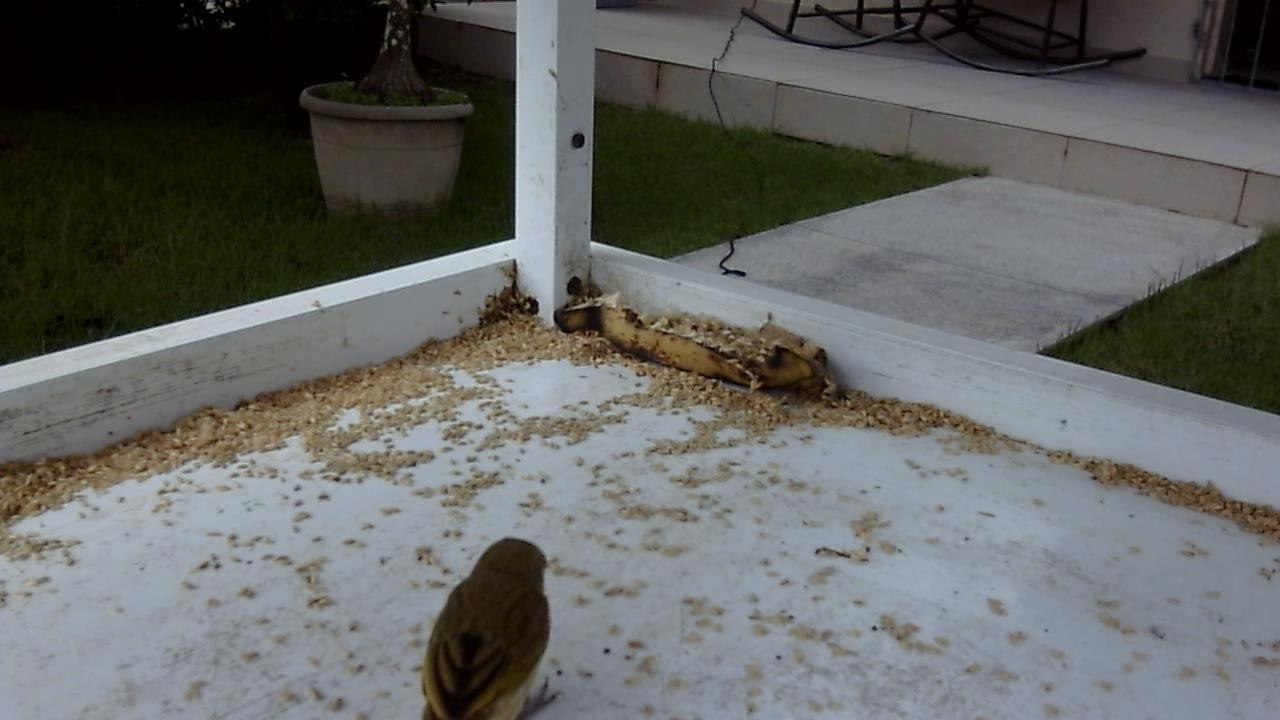canario_do_amazonas: (414, 529, 569, 718)
